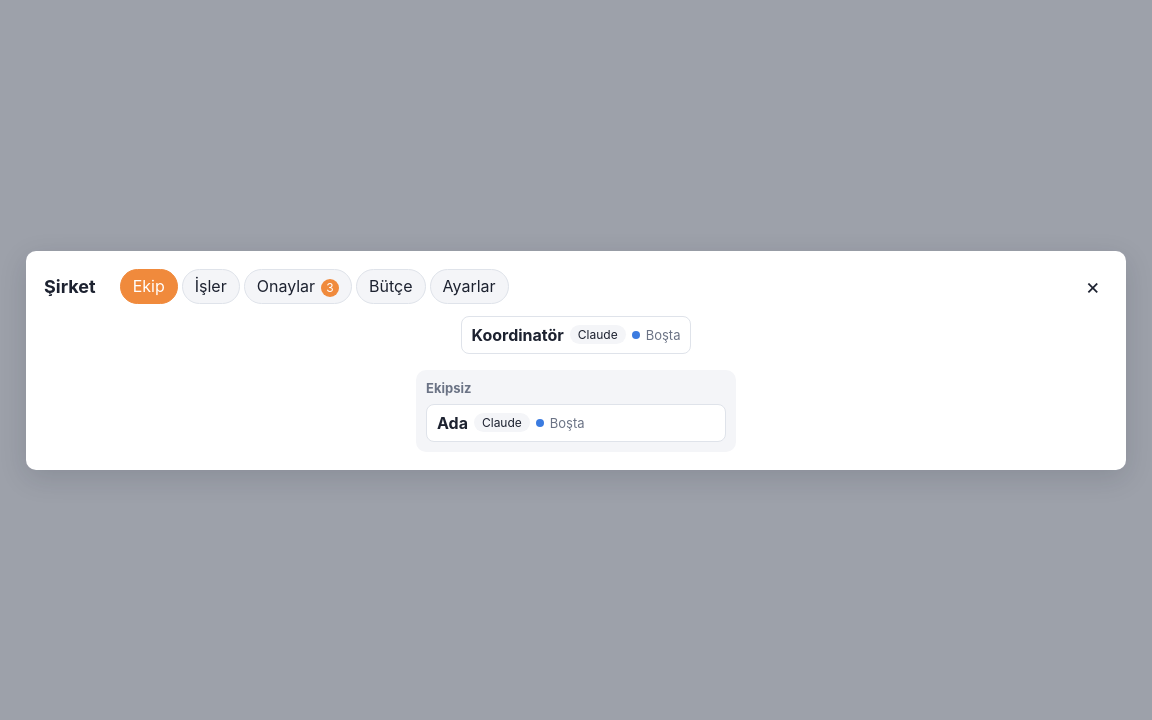
Test: CompanyView › final review I2: the Yetenekler tab counts what waits for the owner › counts the coordinator’s own proposals, proposals as read and activations not yet opened to the system — and nothing else
What coordinates should you click on to do the following:
click the tab named "Onaylar 3 karar bekliyor"
I would click on:
 (298, 286)
Its box is [244,268,352,304].
(page scrolled)
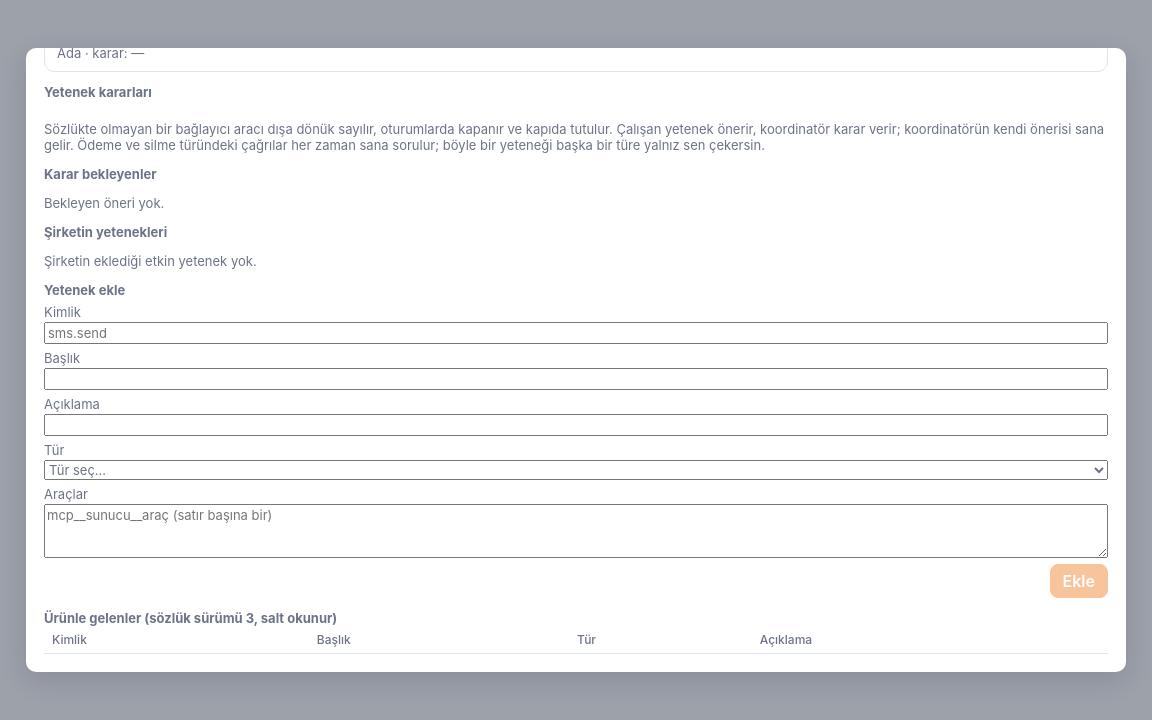
Check: the element "Yetenek kararları" is shown
